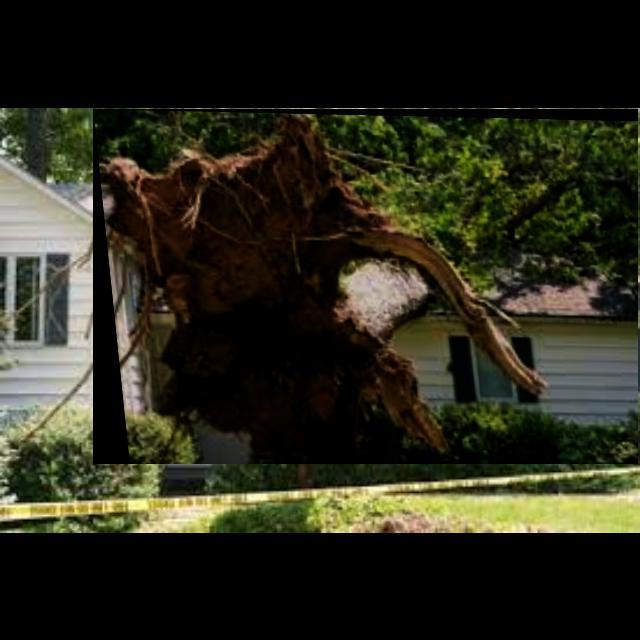fallen_tree: (93, 109, 639, 465)
